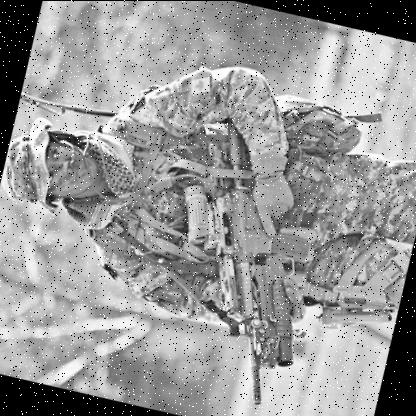rifle: (171, 140, 345, 402)
